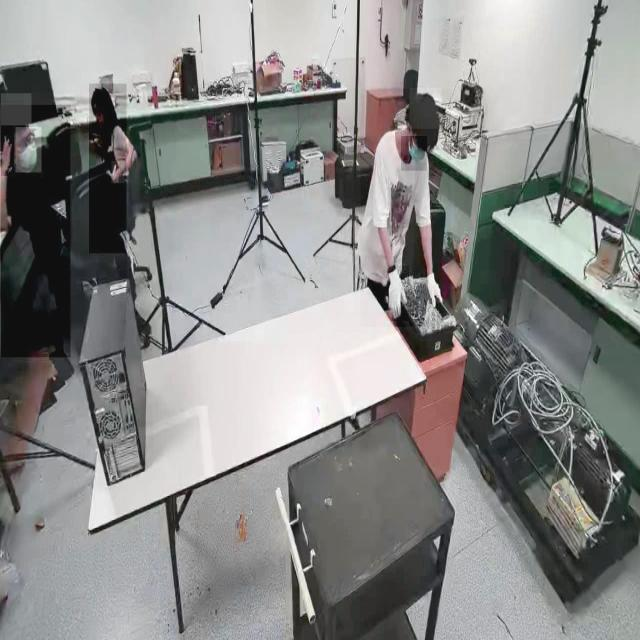face_mask: (16, 127, 42, 173), (401, 136, 427, 171)
face_nomask: (94, 106, 106, 129)
hand_glove: (385, 266, 409, 322), (426, 270, 442, 305)
hand_noglove: (0, 129, 14, 177), (111, 161, 125, 184)
head_nohelmet: (409, 88, 441, 130), (1, 94, 32, 126), (92, 85, 110, 103)
person: (360, 89, 451, 328), (0, 105, 70, 358), (88, 84, 126, 254)
